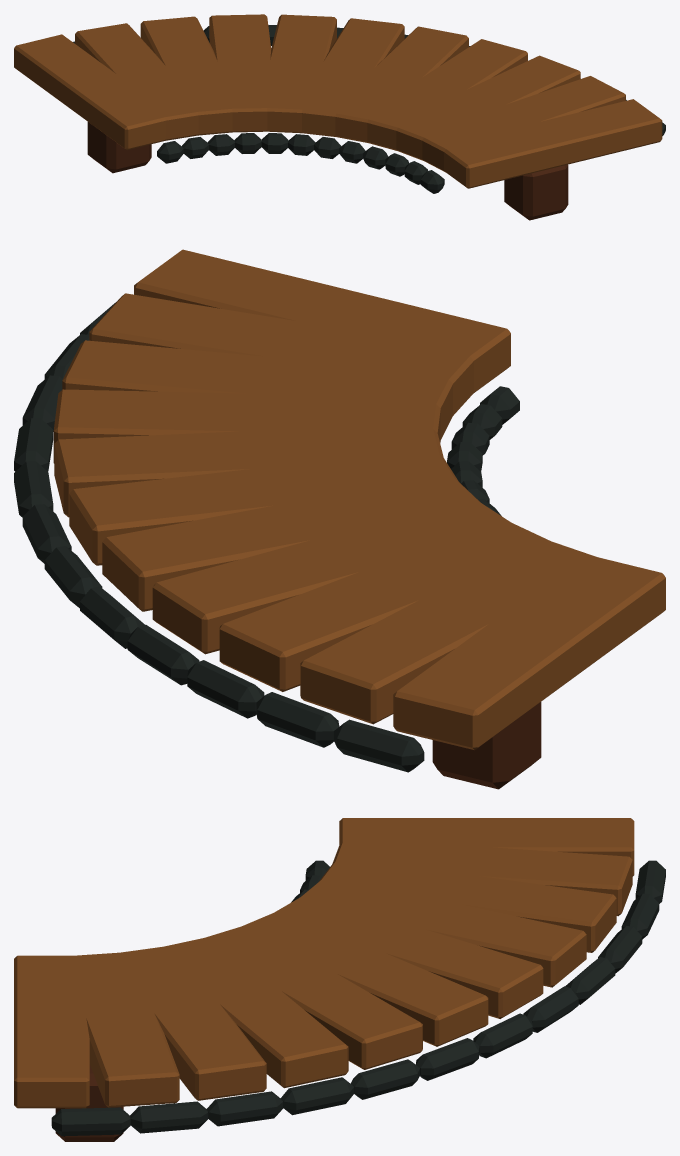
File: conveyor_corner.glb
3 views of the same model, one above another, from view 1: azimuth 30°, elevation 25°; view 2: azimuth 150°, elevation 25°; view 3: azimuth 270°, elevation 25° (orthographic). The views are drawn at different scales.
Visible parts, largest first — view 1: conveyor_corner_body; view 2: conveyor_corner_body; view 3: conveyor_corner_body.
Part boxes in pixels (x1=…): conveyor_corner_body: x1=14, y1=14, x2=665, y2=220; conveyor_corner_body: x1=14, y1=249, x2=665, y2=789; conveyor_corner_body: x1=14, y1=818, x2=665, y2=1141.
Bounding box in the file's own units: 1.72 × 0.335 × 1.72.
